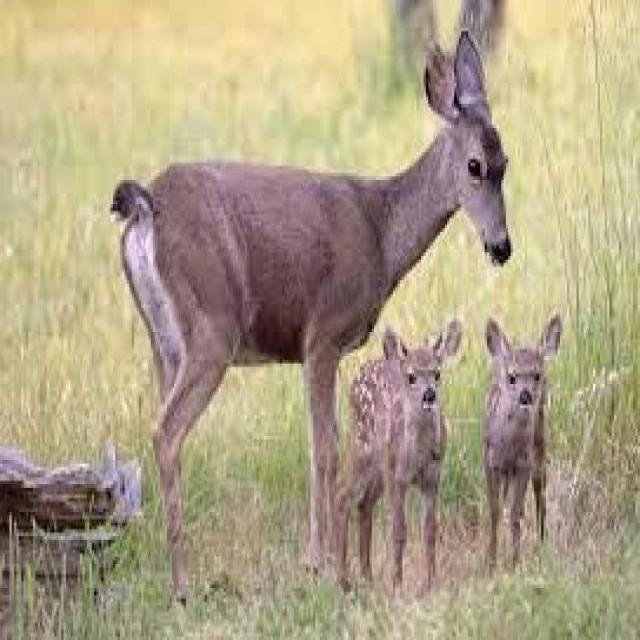deer: (81, 49, 523, 314), (332, 331, 470, 586), (482, 318, 586, 582)
